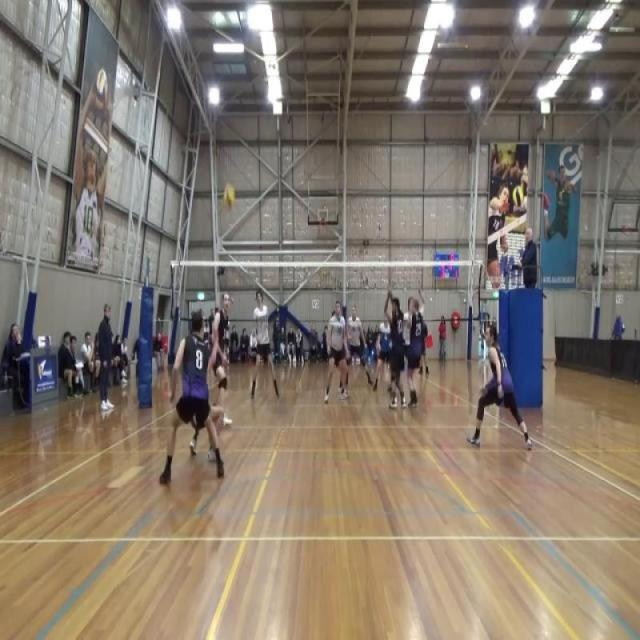volleyball: (95, 68, 107, 112), (220, 183, 237, 213), (512, 186, 524, 207)
